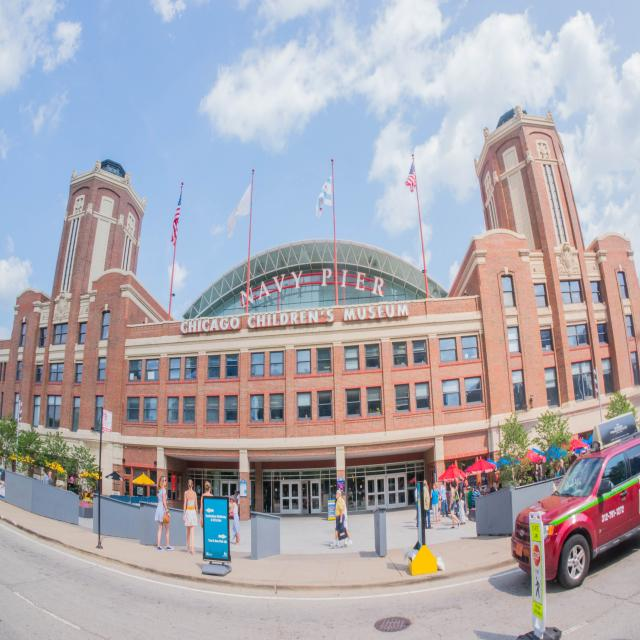body: (154, 475, 174, 552), (575, 466, 615, 497), (182, 479, 198, 556), (328, 489, 348, 549), (335, 492, 353, 546), (229, 494, 241, 546), (448, 481, 461, 529), (347, 484, 370, 511), (200, 481, 214, 524), (302, 487, 324, 514), (423, 479, 433, 529), (458, 474, 467, 526), (274, 487, 298, 505), (430, 482, 440, 525), (440, 479, 449, 518), (434, 482, 442, 522), (471, 484, 483, 508), (453, 480, 460, 518), (262, 484, 271, 513), (78, 488, 94, 503), (462, 478, 468, 516), (487, 483, 497, 505), (299, 404, 311, 421), (234, 490, 240, 521), (414, 483, 418, 527), (407, 482, 415, 504), (388, 483, 396, 504), (393, 354, 407, 366), (467, 485, 473, 509), (425, 484, 429, 520), (368, 402, 380, 414), (497, 482, 504, 502), (250, 489, 256, 512), (399, 479, 405, 502), (42, 468, 50, 485), (414, 352, 427, 362), (559, 458, 566, 476), (568, 454, 578, 466), (482, 482, 490, 496), (68, 471, 75, 487), (537, 463, 543, 481), (328, 493, 337, 505), (478, 482, 485, 496), (0, 479, 5, 498), (556, 462, 562, 477), (532, 470, 539, 482), (47, 471, 52, 485), (468, 484, 477, 491), (92, 486, 99, 494), (34, 477, 42, 484), (234, 490, 238, 504), (548, 460, 553, 470), (514, 479, 522, 485), (415, 510, 417, 524)
